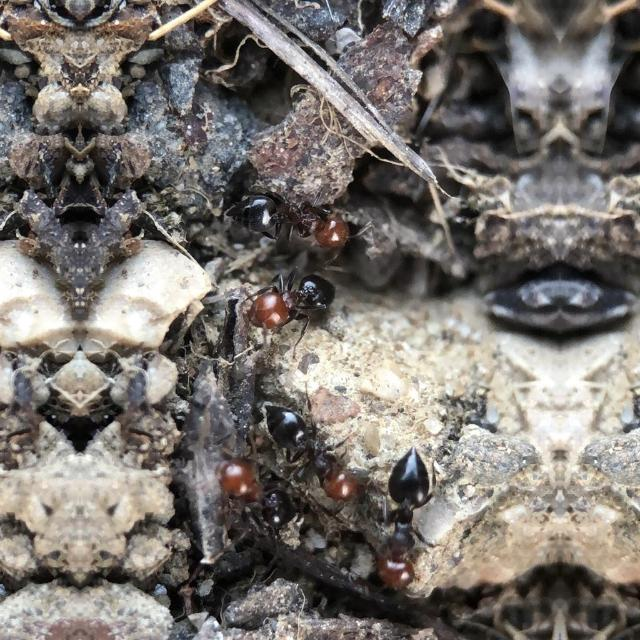Crematogaster: (268, 392, 376, 506), (364, 452, 450, 580), (222, 186, 352, 260), (210, 454, 300, 540), (244, 269, 336, 337)
